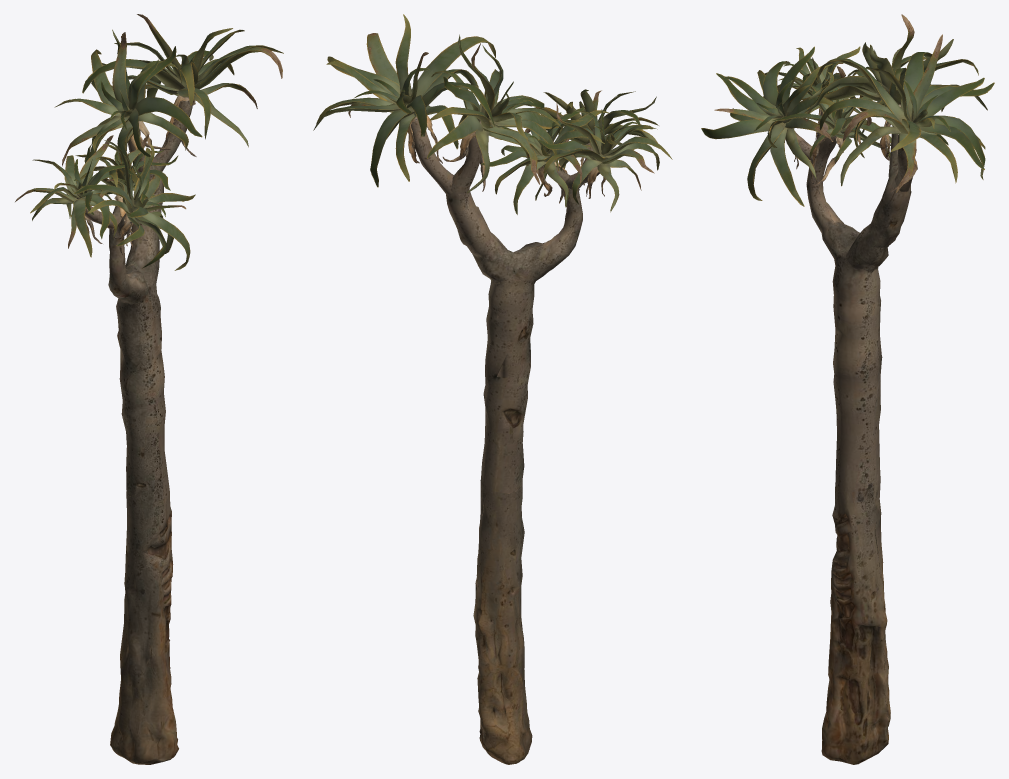
The model's file is quiver_tree_01.glb.
3 renders of one model, left to right at view 1: azimuth 30°, elevation 25°; view 2: azimuth 150°, elevation 25°; view 3: azimuth 270°, elevation 25°, orthographic. The views are drawn at different scales.
Visible parts, largest first — view 1: quiver_tree_01; view 2: quiver_tree_01; view 3: quiver_tree_01.
Boxes of the visible parts, x1,y1,x2,y2 form: quiver_tree_01: (15, 14, 283, 764); quiver_tree_01: (313, 14, 672, 764); quiver_tree_01: (701, 14, 994, 764).
Size of the model in its own units: 1.18 by 2.71 by 0.9707.
Materials: 2 (2 with a texture image).
